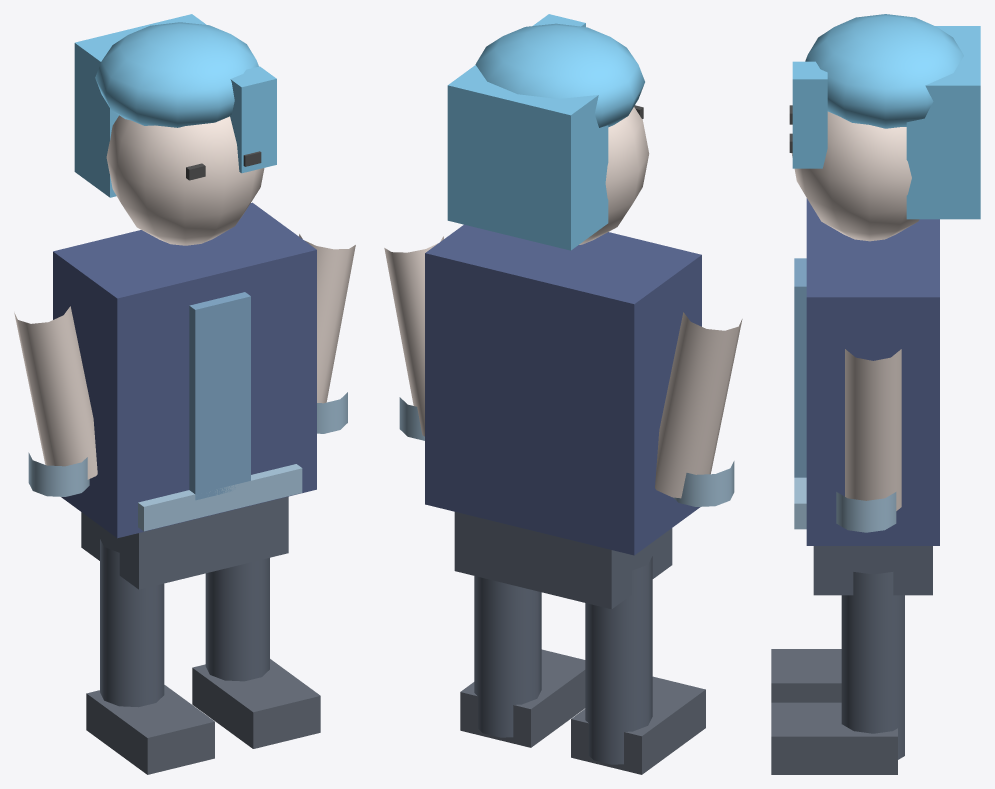
The model's file is jinx.glb.
3 views of the same model, side by side, from view 1: azimuth 30°, elevation 25°; view 2: azimuth 150°, elevation 25°; view 3: azimuth 270°, elevation 25° (orthographic). The views are drawn at different scales.
Visible parts, largest first — view 1: Torso, Head, HairCap, Vest, Pelvis, ArmL, LegL, FootL, FootR, LegR, HairBack, Belt (+4 smaller); view 2: Torso, HairBack, Pelvis, HairCap, LegL, ArmL, LegR, FootL, FootR, ArmR, Head, CuffL (+1 smaller); view 3: Torso, HairCap, HairBack, Head, LegR, ArmR, FootR, Pelvis, FootL, HairLock, Vest, CuffR (+1 smaller).
Part boxes in pixels (<box>): Torso: <box>53,202,316,538</box>; Head: <box>106,115,264,245</box>; HairCap: <box>95,22,258,127</box>; Vest: <box>189,292,250,500</box>; Pelvis: <box>81,496,288,589</box>; ArmL: <box>14,306,97,479</box>; LegL: <box>100,539,164,707</box>; FootL: <box>86,685,214,774</box>; FootR: <box>192,659,320,748</box>; LegR: <box>205,558,269,681</box>; HairBack: <box>74,14,206,197</box>; Belt: <box>138,464,302,531</box>; Torso: <box>425,224,701,555</box>; HairBack: <box>447,65,608,250</box>; Pelvis: <box>454,512,672,609</box>; HairCap: <box>475,23,644,127</box>; LegL: <box>585,556,652,764</box>; ArmL: <box>655,312,742,498</box>; LegR: <box>474,576,541,737</box>; FootL: <box>571,676,705,774</box>; FootR: <box>460,649,585,747</box>; ArmR: <box>384,236,443,436</box>; Head: <box>579,107,649,244</box>; CuffL: <box>673,461,734,506</box>; Torso: <box>806,198,939,545</box>; HairCap: <box>805,14,963,128</box>; HairBack: <box>906,26,980,219</box>; Head: <box>791,111,919,241</box>; LegR: <box>841,572,904,759</box>; ArmR: <box>845,349,901,510</box>; FootR: <box>771,702,897,774</box>; Pelvis: <box>813,546,932,595</box>; FootL: <box>771,649,841,702</box>; HairLock: <box>792,61,827,168</box>; Vest: <box>794,258,806,477</box>; CuffR: <box>836,492,896,532</box>.
Size of the model in its own units: 1.14 by 2.21 by 0.595.
